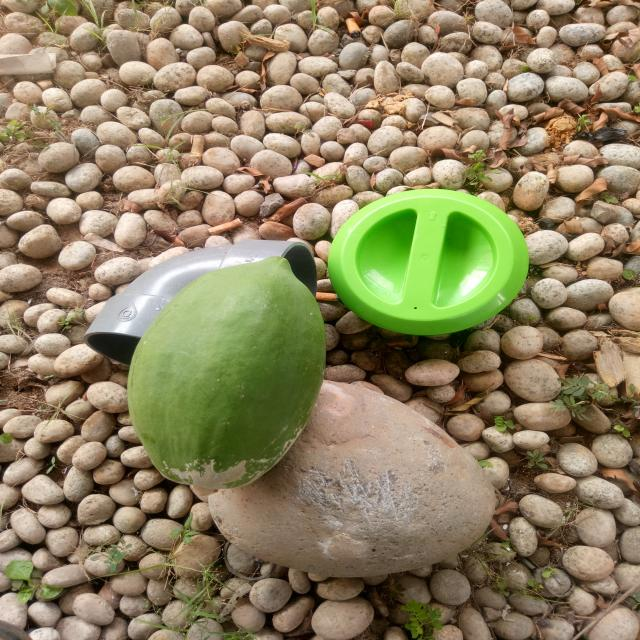Pepaya unrippen: (124, 255, 340, 498)
